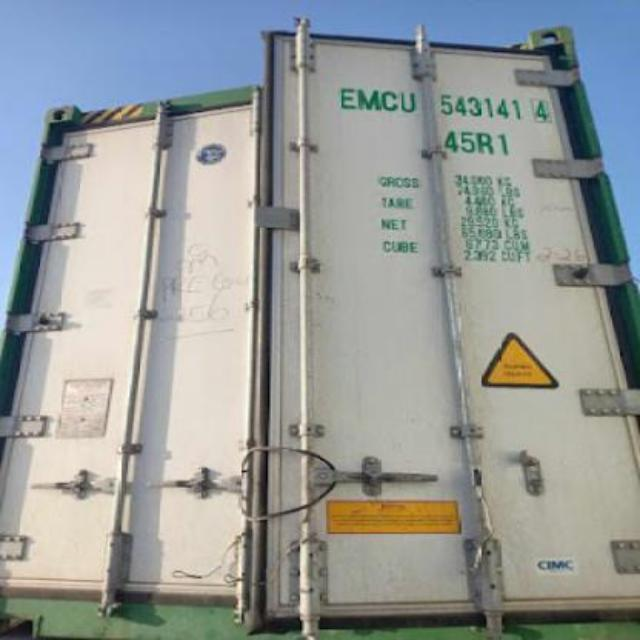1: (482, 95, 496, 122), (511, 95, 524, 121)
3: (466, 95, 486, 119)
4: (532, 99, 554, 123), (494, 95, 512, 121), (454, 92, 468, 118)
5: (438, 94, 456, 115)
C: (378, 88, 399, 114)
E: (338, 86, 358, 112)
M: (356, 87, 382, 113)
U: (398, 89, 419, 115)
